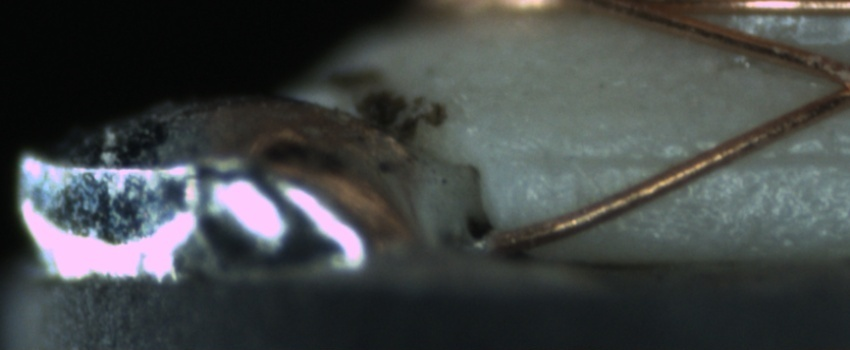DL: (519, 129, 850, 188)
